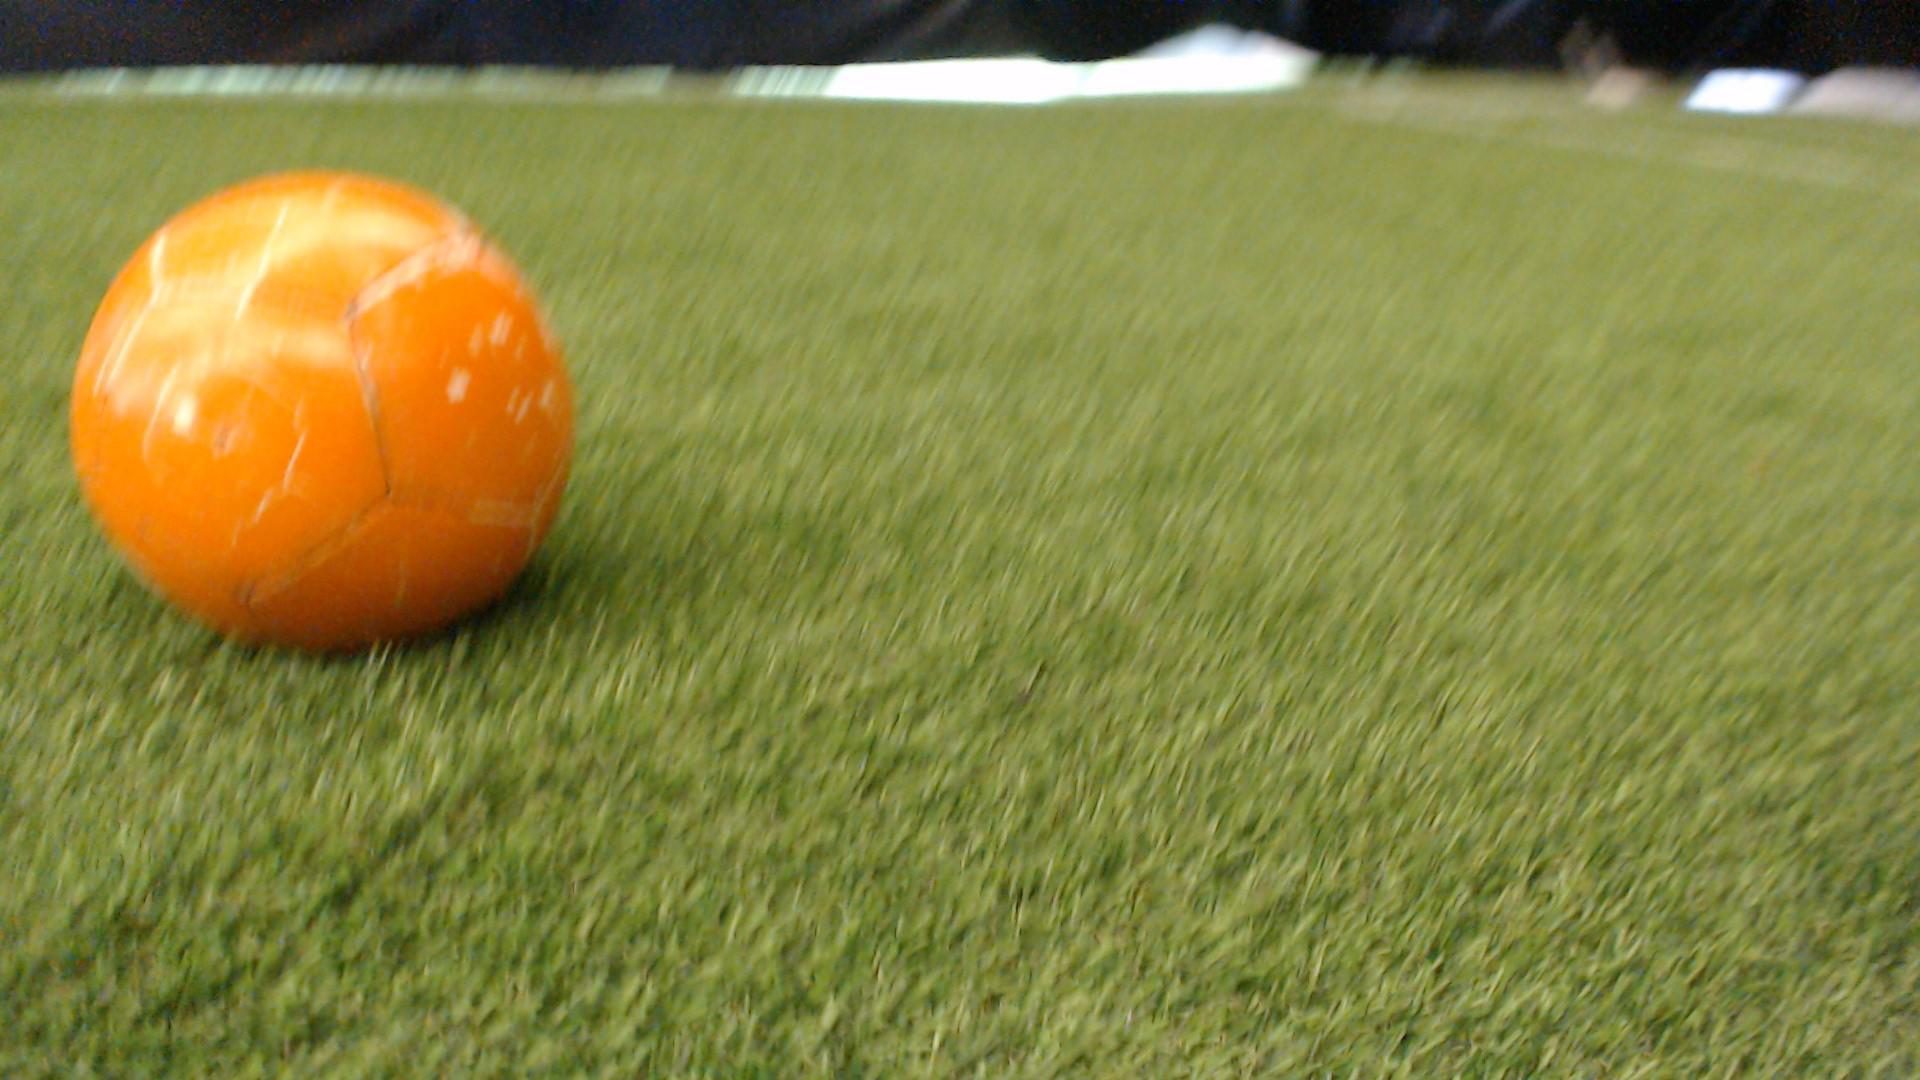bola: (42, 145, 621, 670)
